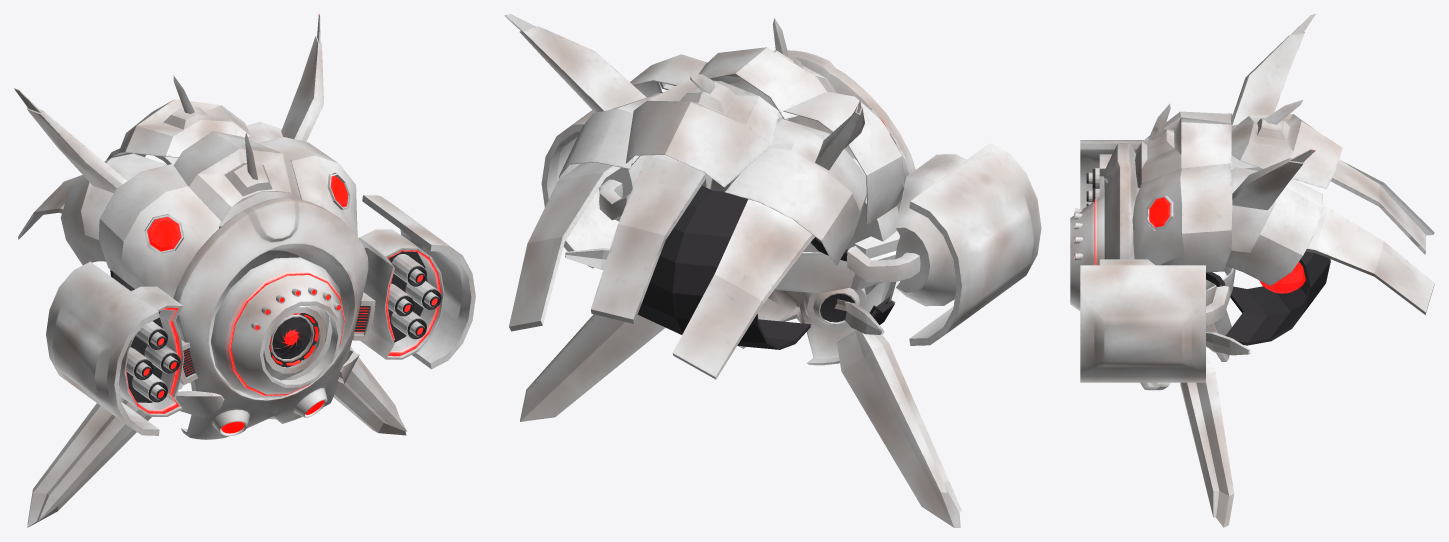
File: BOSS_3.fbx
3 views of the same model, side by side, from view 1: azimuth 30°, elevation 25°; view 2: azimuth 150°, elevation 25°; view 3: azimuth 270°, elevation 25° (orthographic). The views are drawn at different scales.
Parts seen in each view (by area): view 1: Cylinder.001, Cylinder.005, Sphere.006, Sphere, Sphere.007, Cylinder.006, Cube.004, Sphere.005, Cylinder.008, Sphere.008, Sphere.001, Plane.009 (+4 smaller); view 2: Sphere.007, Cylinder.005, Plane.011, Cube.004, Sphere.008, Cylinder.007, Cylinder.006, Plane.010, Sphere.006, Cylinder.001, Sphere.005, Cylinder.003 (+4 smaller); view 3: Cylinder.005, Sphere.007, Sphere.006, Plane.011, Sphere.008, Cube.004, Sphere.005, Cylinder.007, Cylinder.001, Plane.010, Sphere, Cylinder.006 (+2 smaller).
Part boxes in pixels (bbox=[...]): Cylinder.001: bbox=[173, 197, 368, 439]; Cylinder.005: bbox=[46, 195, 475, 435]; Sphere.006: bbox=[99, 137, 357, 297]; Sphere: bbox=[211, 257, 344, 397]; Sphere.007: bbox=[14, 14, 323, 264]; Cylinder.006: bbox=[119, 229, 444, 416]; Cube.004: bbox=[27, 347, 406, 527]; Sphere.005: bbox=[173, 131, 301, 226]; Cylinder.008: bbox=[126, 254, 441, 402]; Sphere.008: bbox=[118, 75, 250, 157]; Sphere.001: bbox=[263, 305, 329, 380]; Plane.009: bbox=[269, 313, 318, 367]; Sphere.007: bbox=[504, 14, 866, 265]; Cylinder.005: bbox=[541, 110, 1041, 345]; Plane.011: bbox=[509, 155, 814, 379]; Cube.004: bbox=[520, 314, 961, 527]; Sphere.008: bbox=[626, 74, 779, 187]; Cylinder.007: bbox=[637, 185, 810, 349]; Cylinder.006: bbox=[599, 154, 966, 306]; Plane.010: bbox=[591, 112, 788, 323]; Sphere.006: bbox=[630, 54, 904, 225]; Cylinder.001: bbox=[729, 50, 915, 365]; Sphere.005: bbox=[699, 18, 836, 119]; Cylinder.003: bbox=[774, 252, 854, 293]; Cylinder.005: bbox=[1080, 140, 1205, 382]; Sphere.007: bbox=[1226, 14, 1323, 285]; Sphere.006: bbox=[1132, 111, 1232, 272]; Plane.011: bbox=[1305, 160, 1434, 314]; Sphere.008: bbox=[1231, 100, 1342, 188]; Cube.004: bbox=[1180, 279, 1234, 527]; Sphere.005: bbox=[1135, 103, 1231, 187]; Cylinder.007: bbox=[1225, 251, 1330, 345]; Cylinder.001: bbox=[1103, 143, 1170, 390]; Plane.010: bbox=[1231, 155, 1425, 254]; Sphere: bbox=[1070, 195, 1104, 310]; Cylinder.006: bbox=[1099, 154, 1229, 325].
Size of the model in its own units: 632 by 627 by 574.
1 material, 1 textured.
